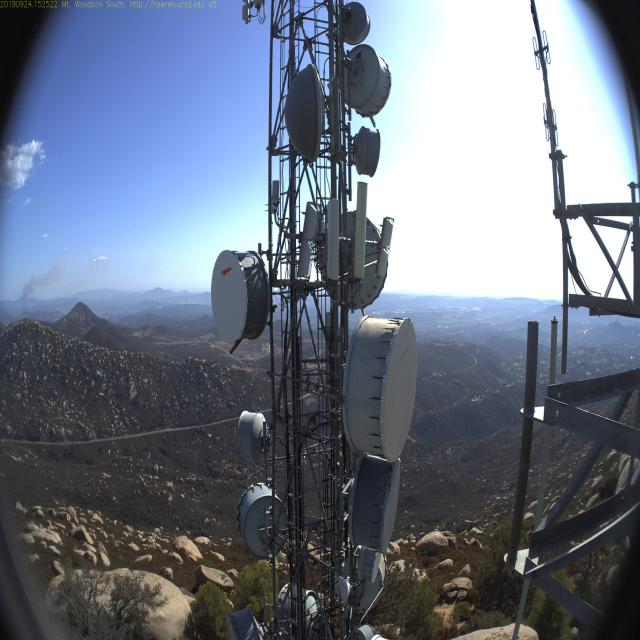smoke: (14, 265, 69, 308)
